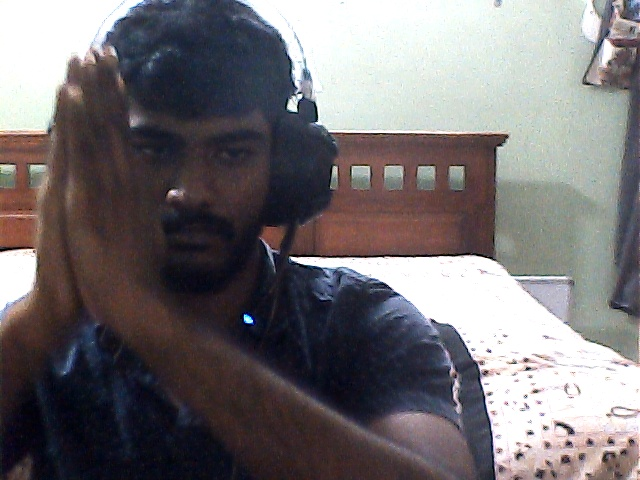Sign: (35, 48, 175, 318)
